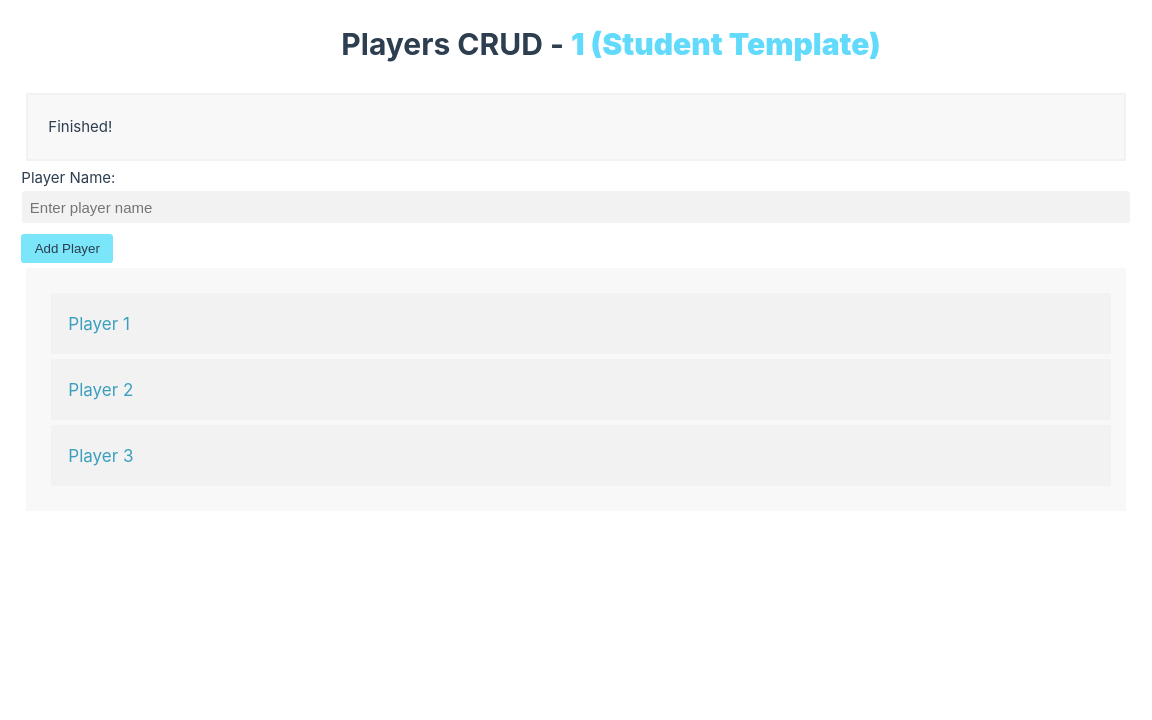
Scenario: Requests: POST › should be able to successfully add a new player to the backend, and then to the list of players
Check: the text "Finished!" is shown, box [26,93,1126,161]
Type "New Player" into the field with id "input-player". click: (576, 207)
box: [21,190,1130,224]
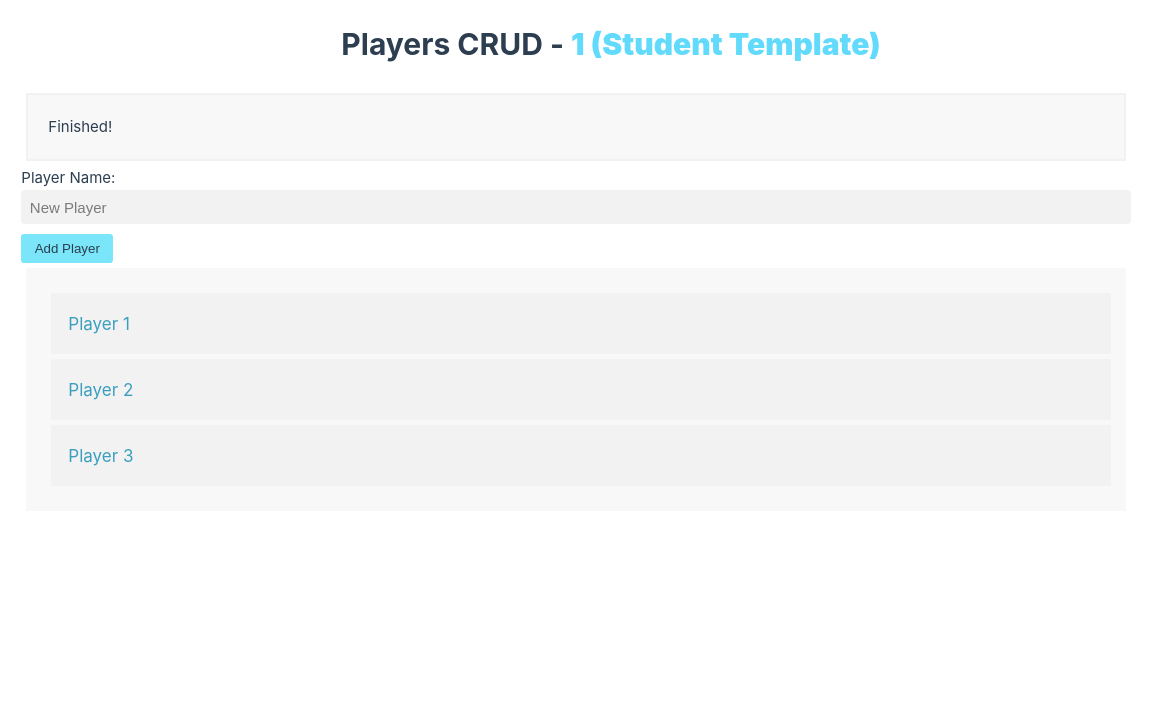
Click the button "Add Player". click: (67, 248)
box: [21,234,113,262]
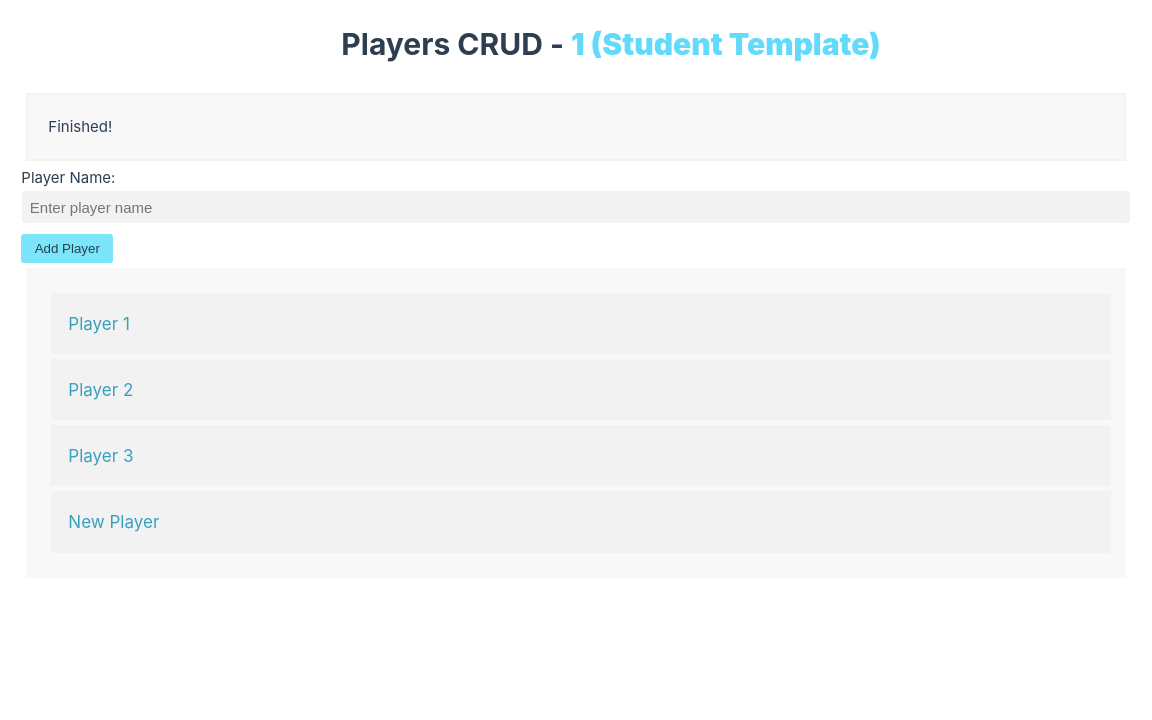
Check: the text "Finished!" is shown, box [26,93,1126,161]
Check: the number of list items is 4, box [51,292,1111,354]; [51,359,1111,420]; [51,425,1111,486]; [51,491,1111,553]
Check: the link "New Player" is shown, box [51,491,1111,553]
